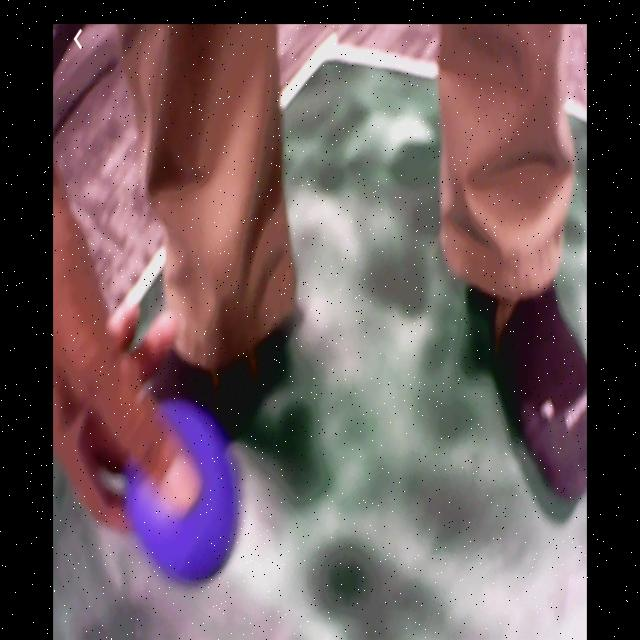ball: (128, 403, 240, 578)
